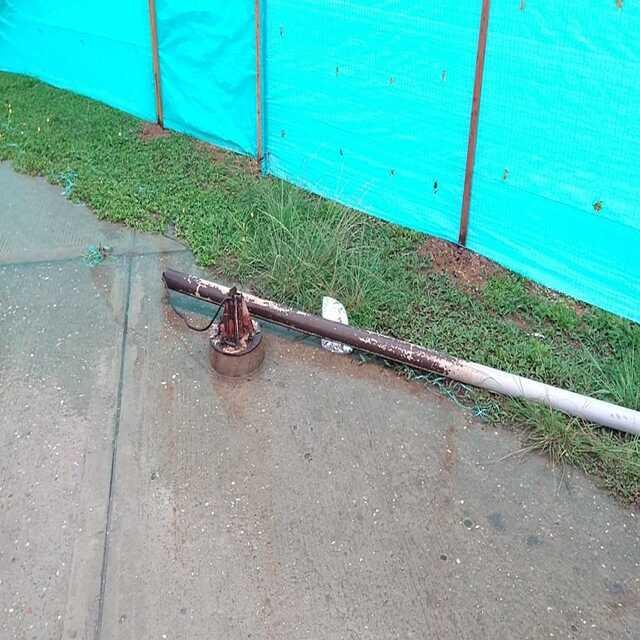Inclined Pole: (161, 264, 640, 441)
